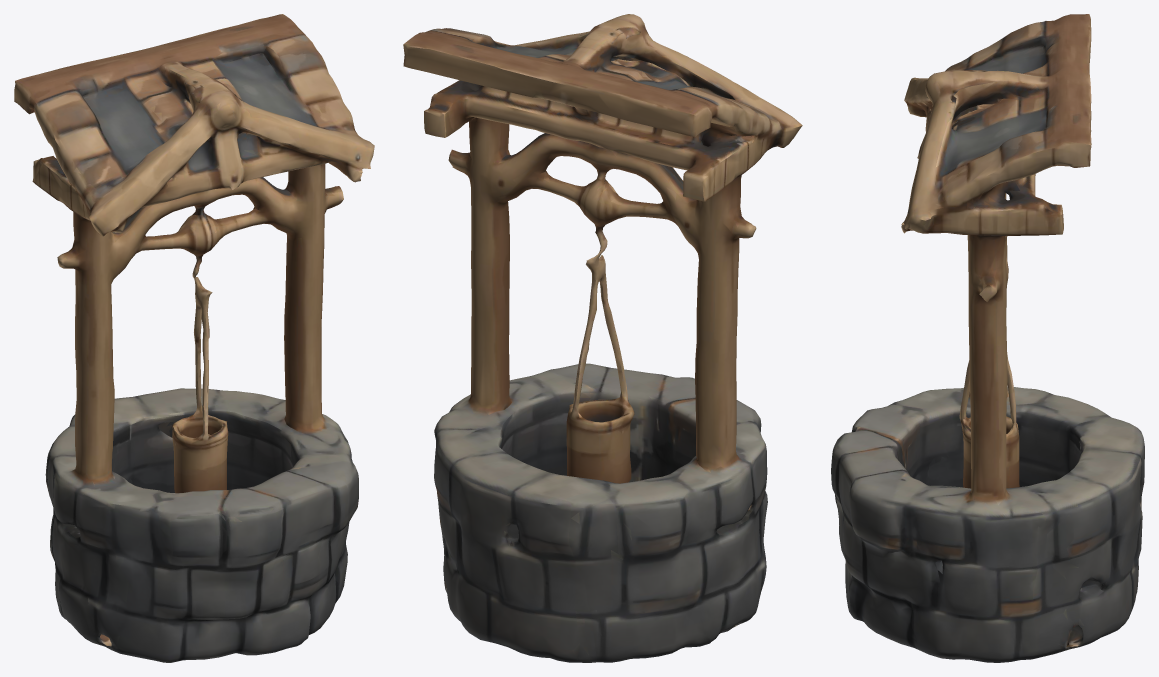
File: WellStylised.glb
The picture shows the model from 3 angles, left to right: view 1: azimuth 30°, elevation 25°; view 2: azimuth 150°, elevation 25°; view 3: azimuth 270°, elevation 25°; orthographic projection. The views are drawn at different scales.
Parts seen in each view (by area): view 1: WellStylised; view 2: WellStylised; view 3: WellStylised.
Boxes of the visible parts, x1,y1,x2,y2 form: WellStylised: (14, 14, 374, 662); WellStylised: (403, 14, 802, 662); WellStylised: (831, 14, 1144, 662).
Bounding box in the file's own units: 2.26 × 3.96 × 2.12.
1 material, 1 textured.
